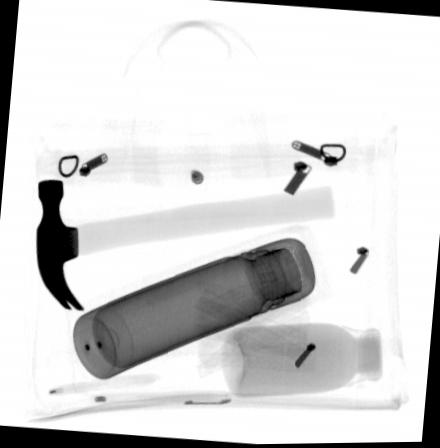Hammer: (35, 179, 334, 311)
